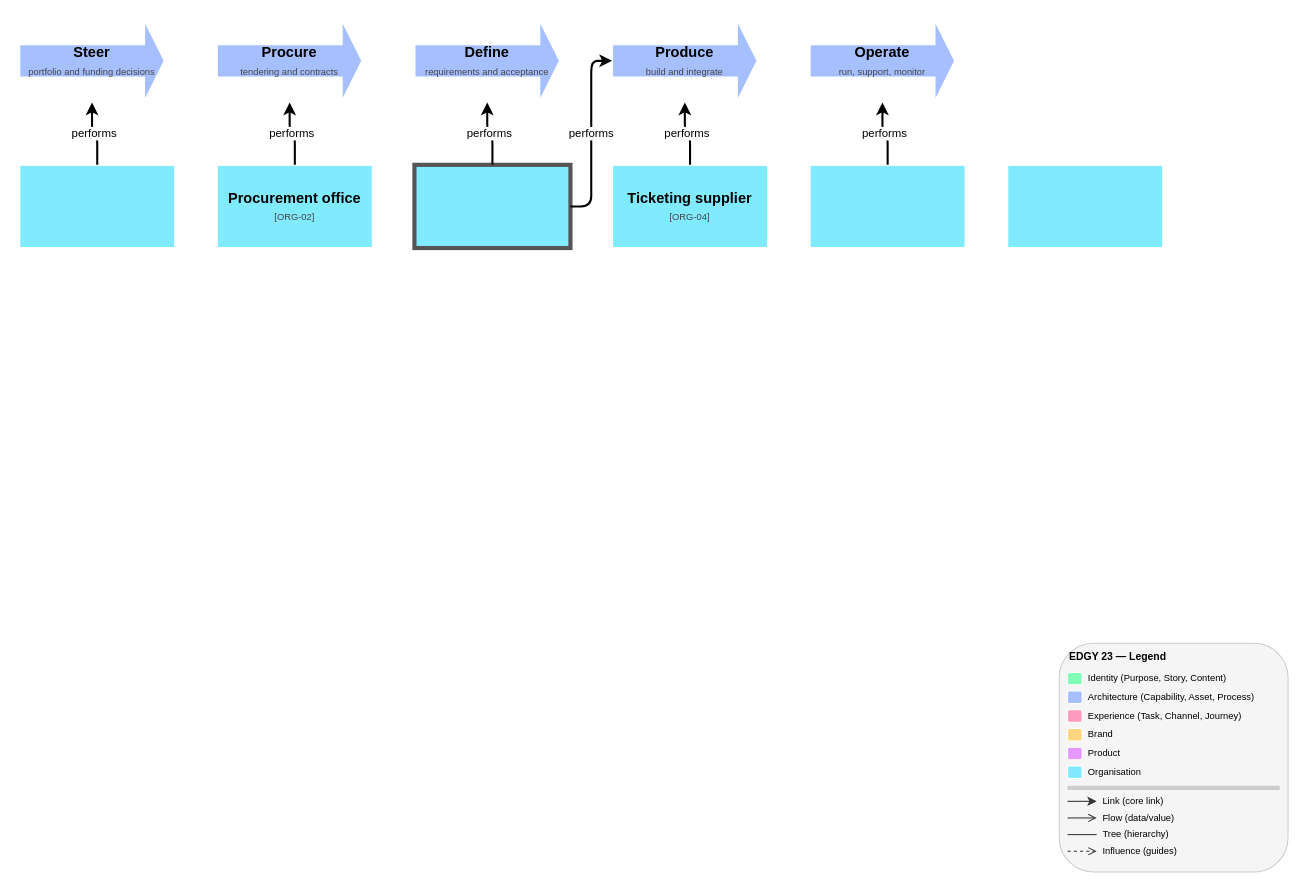
Image size: 1306x890. Some labels were removed from this diagram. Here are the shapes that lost their labels. From the top down, the centre of each, then its label:
At [97,206]: "Board [ORG-01]".
At [492,206]: "Platform team [ORG-03] 8 people".
At [887,206]: "Service desk [ORG-05]".
At [1085,206]: "City partners [ORG-06] 19 municipalities".
